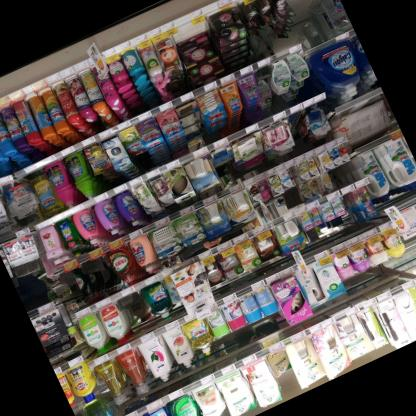empty_space: (327, 157, 361, 188)
